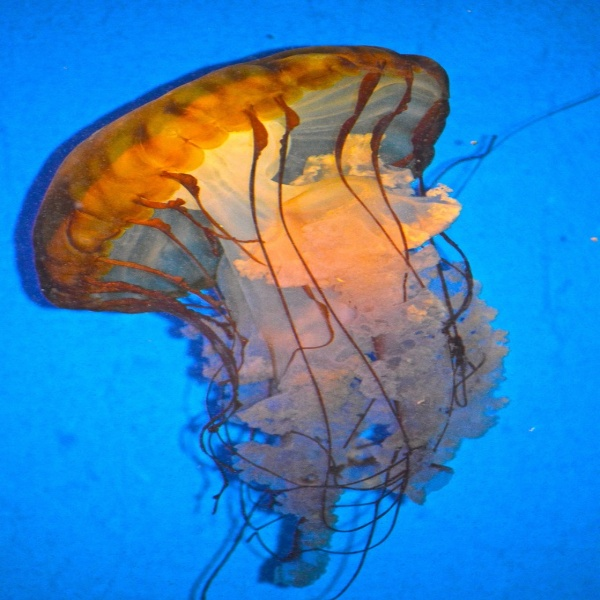Jellyfish: (14, 45, 600, 600)
